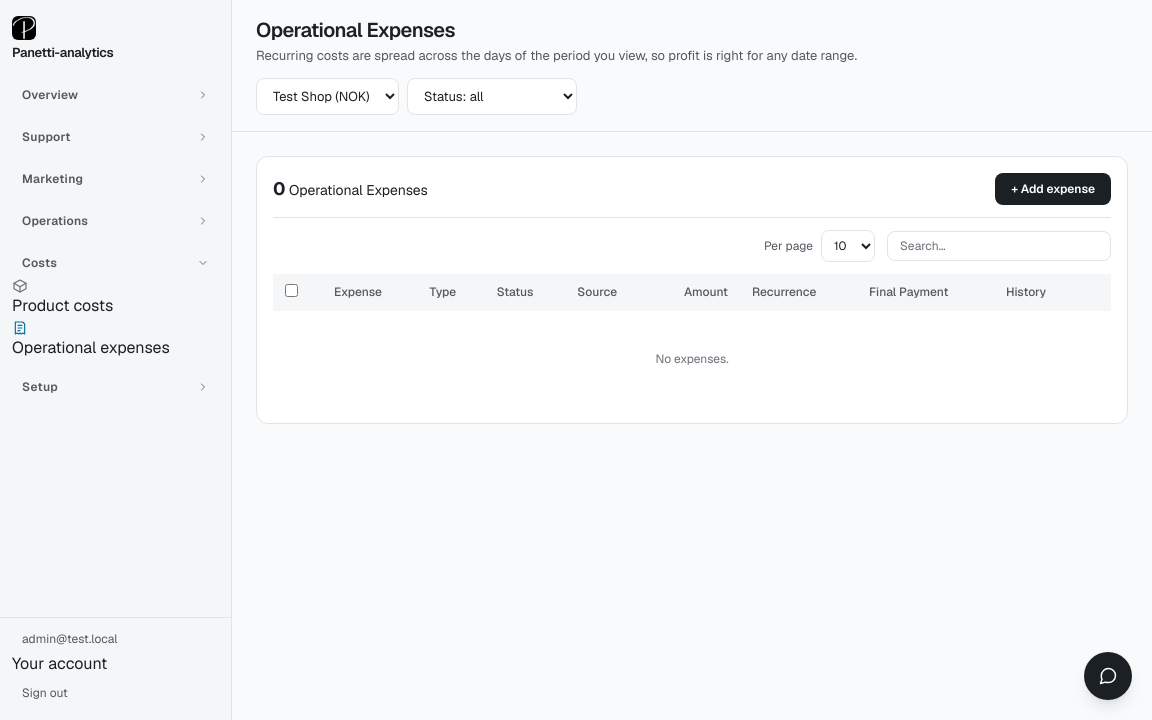
Test: ExpensesClient - the add-expense modal save() fails › shows the server error and keeps the modal open with what they typed
Click the button "+ Add expense" at (1053, 188), box left=995, top=172, right=1111, bottom=204
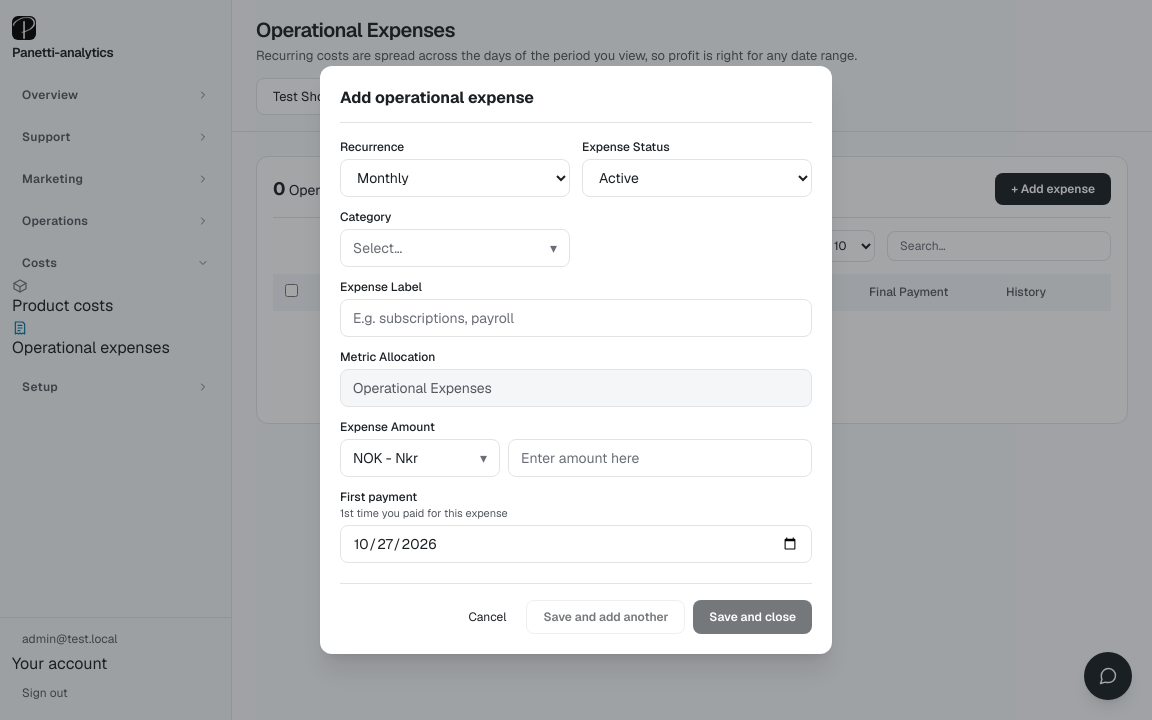
Type "Warehouse rent" into the field labelled "Expense Label" at (576, 318), box left=340, top=299, right=812, bottom=337
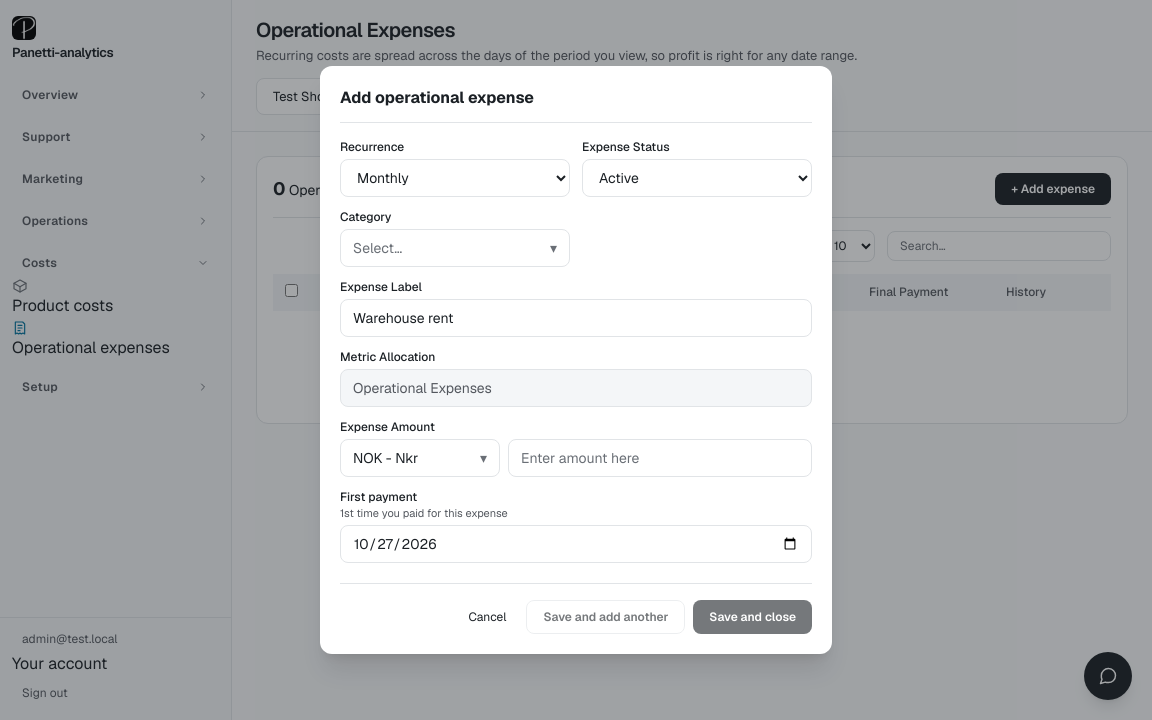
Click the button with aria-label "Category" at (455, 248), box left=340, top=229, right=570, bottom=267
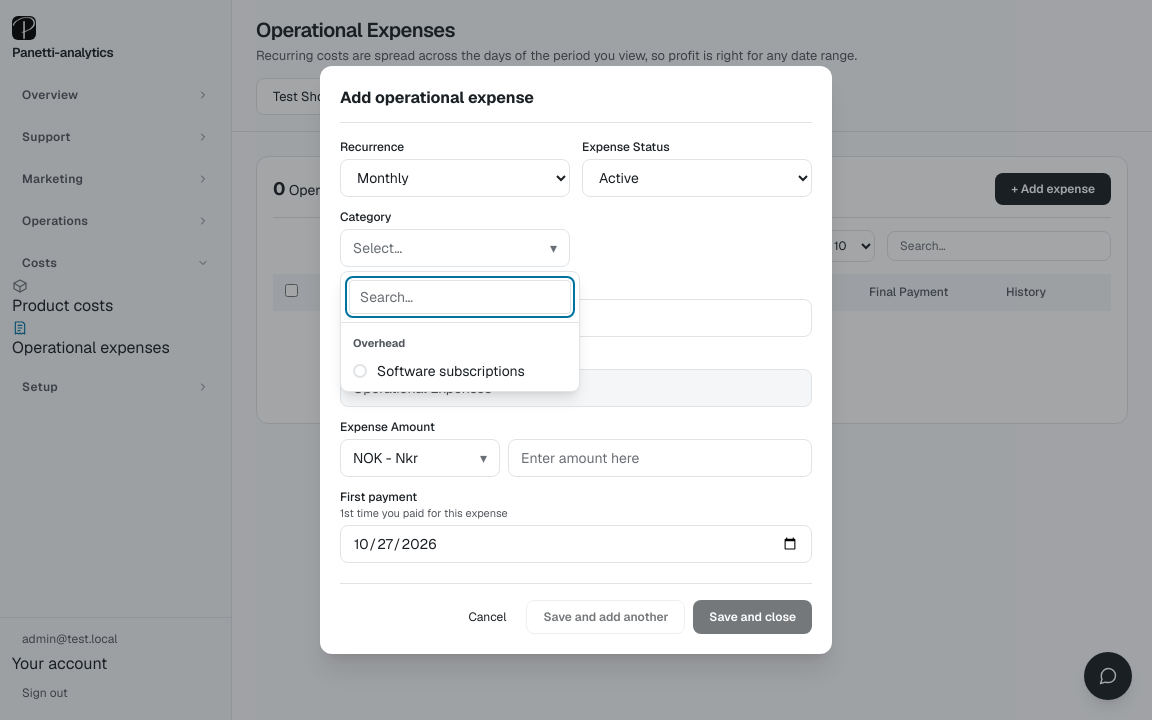
Click the button "Software subscriptions" at (460, 371), box left=341, top=355, right=579, bottom=387
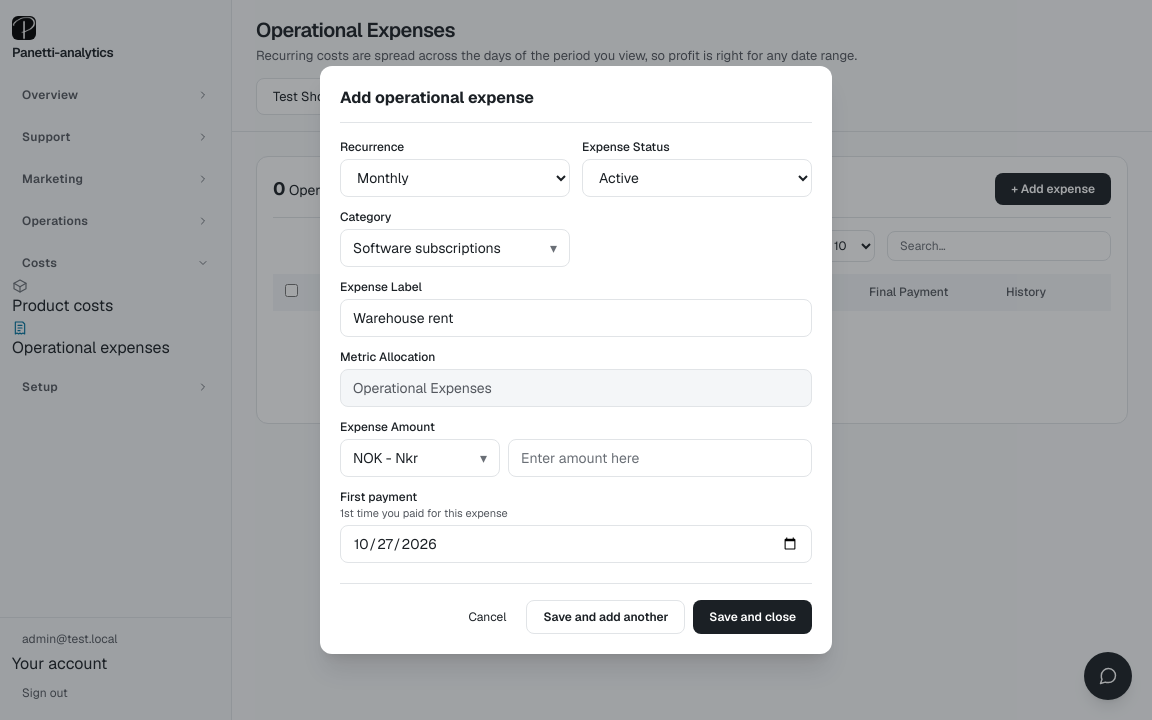
Type "100" into the number field labelled "Expense Amount" at (660, 458), box left=508, top=439, right=812, bottom=477
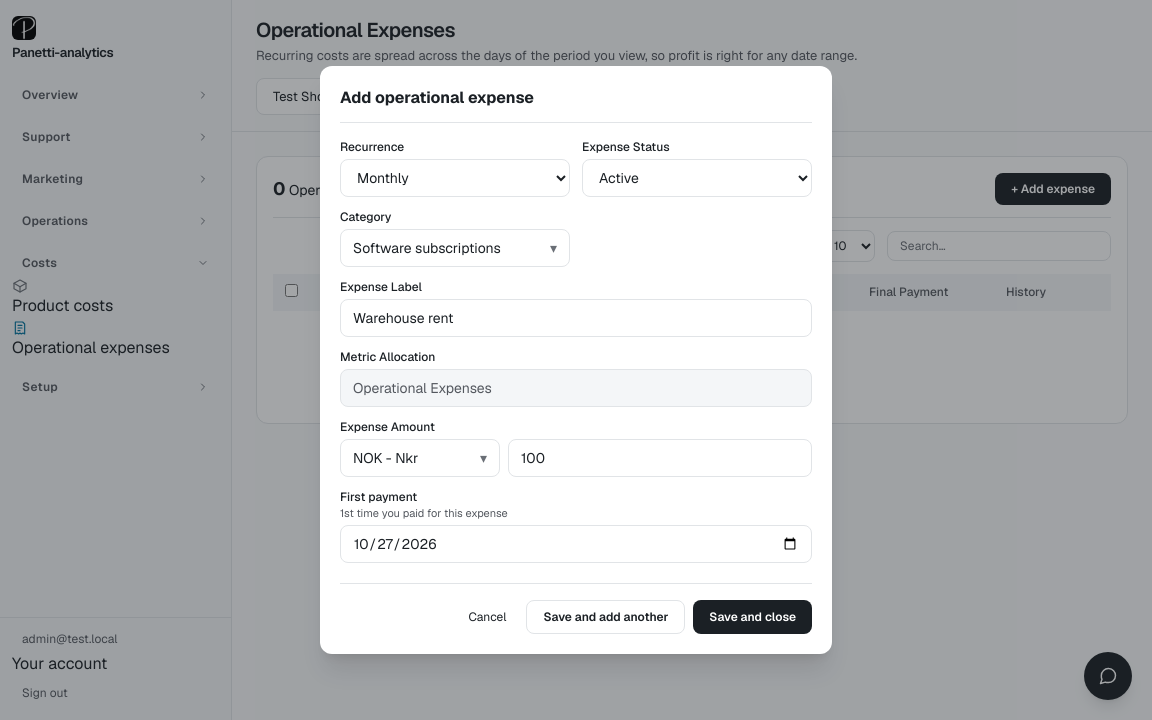
Click the button "Save and close" at (753, 617), box left=693, top=600, right=812, bottom=634
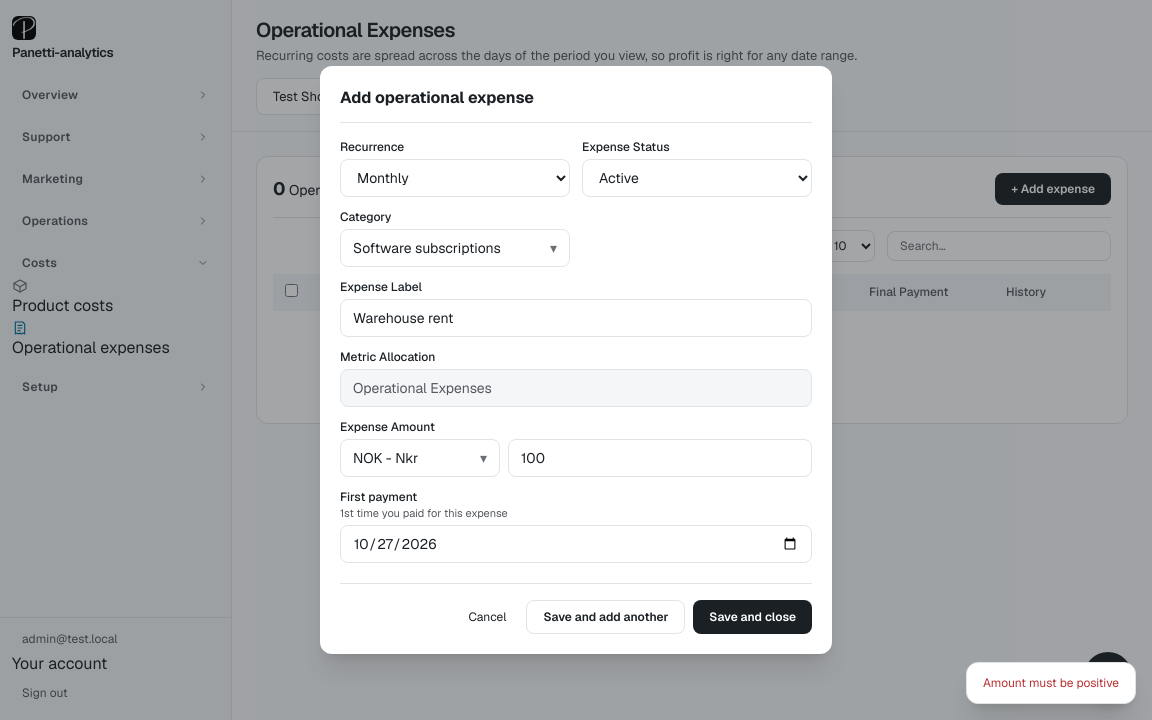
Expected: the button "Amount must be positive" is shown, left=966, top=662, right=1136, bottom=704
